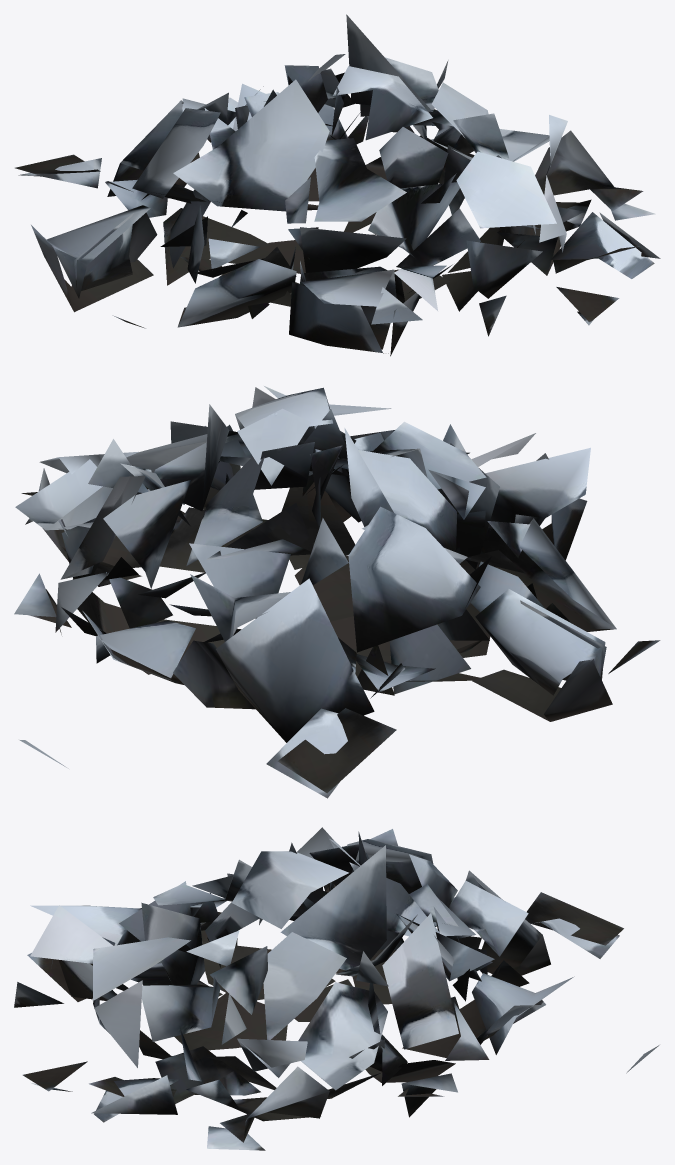
File: tripo-pedras437-lod.glb
3 renders of one model, top to bottom at view 1: azimuth 30°, elevation 25°; view 2: azimuth 150°, elevation 25°; view 3: azimuth 270°, elevation 25°, orthographic. The views are drawn at different scales.
Visible parts, largest first — view 1: tripo_node_d2bf11e0-9e26-4646-b5c5-f5f6b93a9806; view 2: tripo_node_d2bf11e0-9e26-4646-b5c5-f5f6b93a9806; view 3: tripo_node_d2bf11e0-9e26-4646-b5c5-f5f6b93a9806.
Part boxes in pixels (x1=…): tripo_node_d2bf11e0-9e26-4646-b5c5-f5f6b93a9806: x1=15, y1=14, x2=660, y2=356; tripo_node_d2bf11e0-9e26-4646-b5c5-f5f6b93a9806: x1=14, y1=386, x2=660, y2=798; tripo_node_d2bf11e0-9e26-4646-b5c5-f5f6b93a9806: x1=14, y1=827, x2=659, y2=1150.
Size of the model in its own units: 0.9073 by 0.35 by 0.9242.
1 material, 1 textured.
